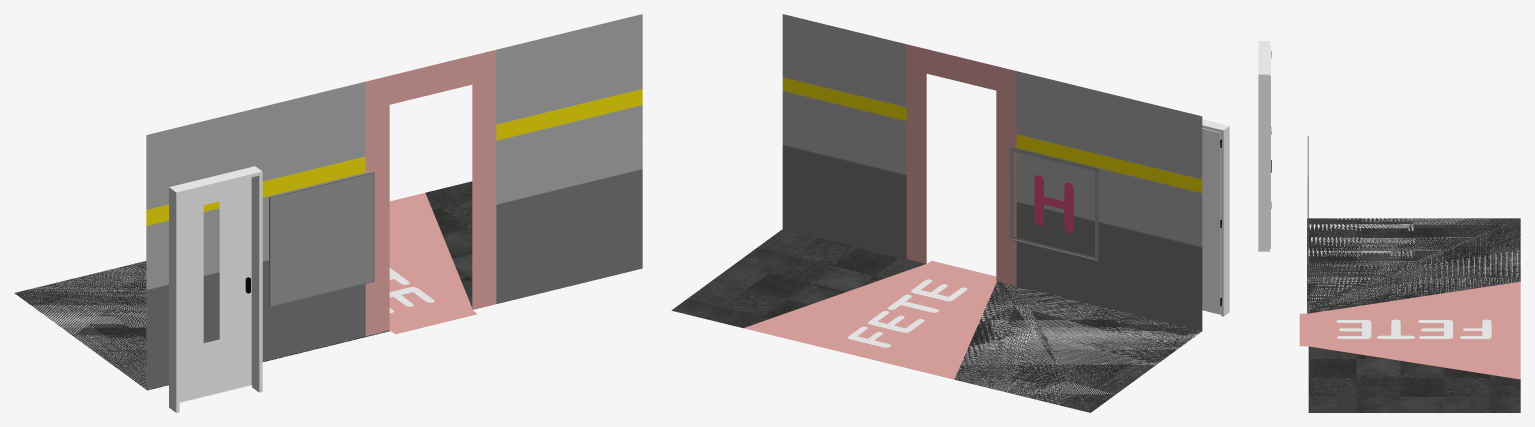
3 views of the same model, side by side, from view 1: azimuth 30°, elevation 25°; view 2: azimuth 150°, elevation 25°; view 3: azimuth 270°, elevation 25° (orthographic). The views are drawn at different scales.
Visible parts, largest first — view 1: group_1.011, group_1.017, group_1.015, group_7.003, group_1.014, group_1.006, group_1, group_6.001, group_1.001, group_1.002; view 2: group_1.017, group_1.011, group_1.006, group_1, group_1.001, group_1.015, group_1.013, group_7.003, group_6.001, group_1.005, group_1.014, group_1.012; view 3: group_1.006, group_1, group_1.001, group_6.001, group_1.008, group_1.007, group_1.010, group_1.009, group_1.002.
Part boxes in pixels (x1,y1,x2,y2): group_1.011: (496, 14, 642, 303); group_1.017: (146, 81, 365, 389); group_1.015: (365, 50, 496, 335); group_7.003: (179, 177, 252, 402); group_1.014: (271, 173, 373, 305); group_1.006: (14, 261, 390, 390); group_1: (389, 193, 477, 334); group_6.001: (169, 166, 262, 412); group_1.001: (425, 181, 472, 307); group_1.002: (269, 171, 374, 307); group_1.017: (1016, 71, 1202, 331); group_1.011: (782, 14, 906, 258); group_1.006: (954, 281, 1202, 412); group_1: (744, 260, 996, 379); group_1.001: (671, 229, 925, 328); group_1.015: (906, 44, 1016, 285); group_1.013: (1016, 152, 1094, 256); group_7.003: (1202, 128, 1220, 314); group_6.001: (1202, 119, 1229, 316); group_1.005: (1034, 175, 1073, 233); group_1.014: (1011, 148, 1097, 259); group_1.012: (1009, 147, 1098, 261); group_1.006: (1307, 218, 1520, 313); group_1: (1299, 281, 1520, 379); group_1.001: (1308, 346, 1520, 412); group_6.001: (1258, 41, 1269, 251); group_1.008: (1336, 320, 1371, 338); group_1.007: (1418, 320, 1452, 338); group_1.010: (1460, 319, 1491, 338); group_1.009: (1377, 319, 1414, 338); group_1.002: (1307, 136, 1308, 265).
Size of the model in its own units: 5.2 by 2.54 by 2.96.
9 materials, 2 textured.
